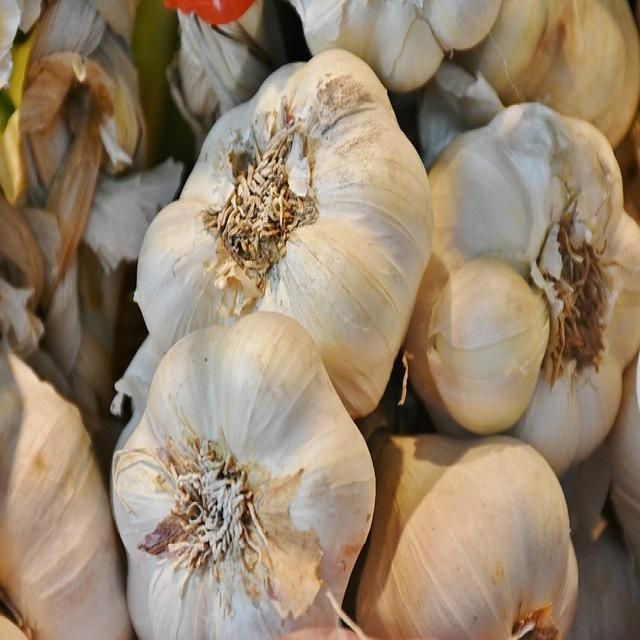garlic: (136, 51, 432, 416), (406, 103, 640, 472), (112, 313, 375, 638), (356, 435, 576, 639)
